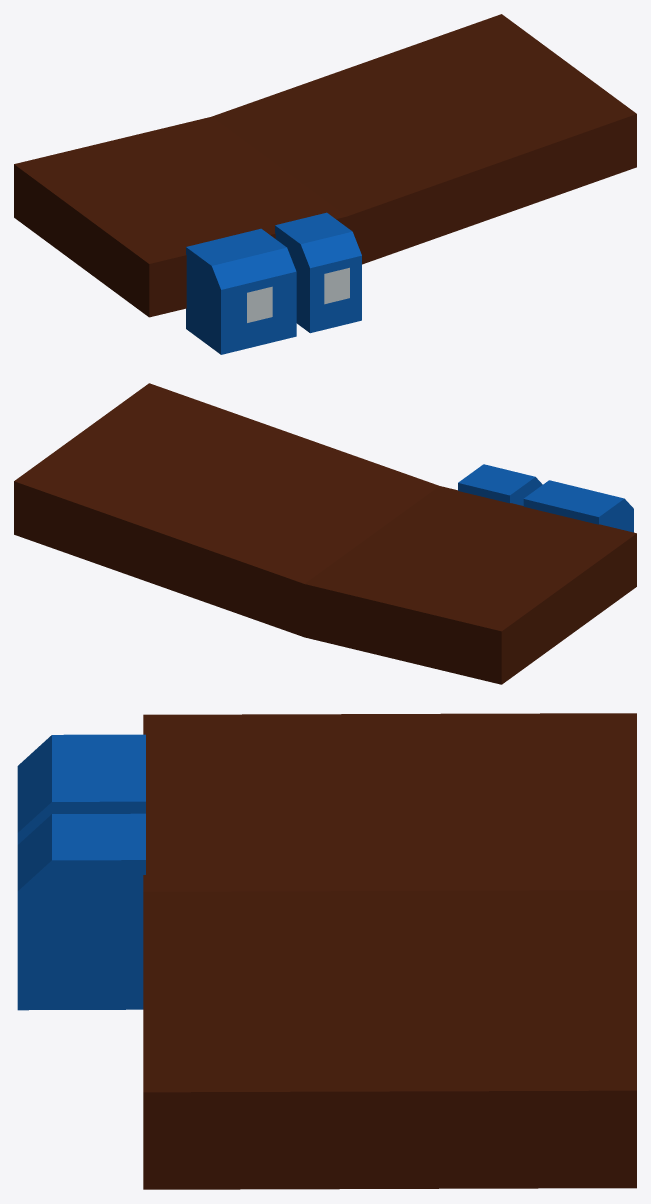
File: Belt 04.FBX
3 views of the same model, one above another, from view 1: azimuth 30°, elevation 25°; view 2: azimuth 150°, elevation 25°; view 3: azimuth 270°, elevation 25° (orthographic). The views are drawn at different scales.
Parts seen in each view (by area): view 1: Belt 04; view 2: Belt 04; view 3: Belt 04.
Part boxes in pixels (x1,y1,x2,y2): Belt 04: (14, 14, 636, 354); Belt 04: (14, 383, 636, 684); Belt 04: (17, 713, 636, 1189).
Bounding box in the file's own units: 50.19 × 10.51 × 30.42.
1 material, 1 textured.
